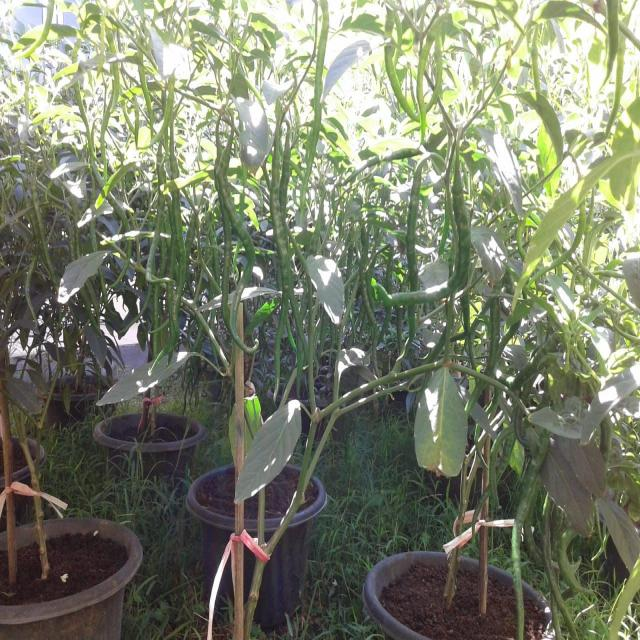sehat: (239, 390, 299, 513), (544, 439, 594, 542), (60, 243, 110, 304)
